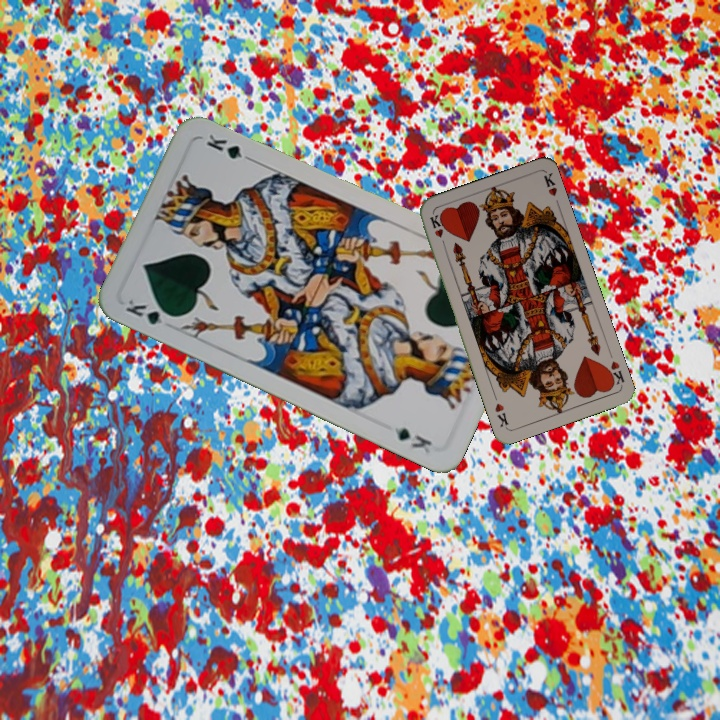GK: (121, 295, 179, 328)
HK: (426, 210, 448, 250), (602, 357, 627, 389)
